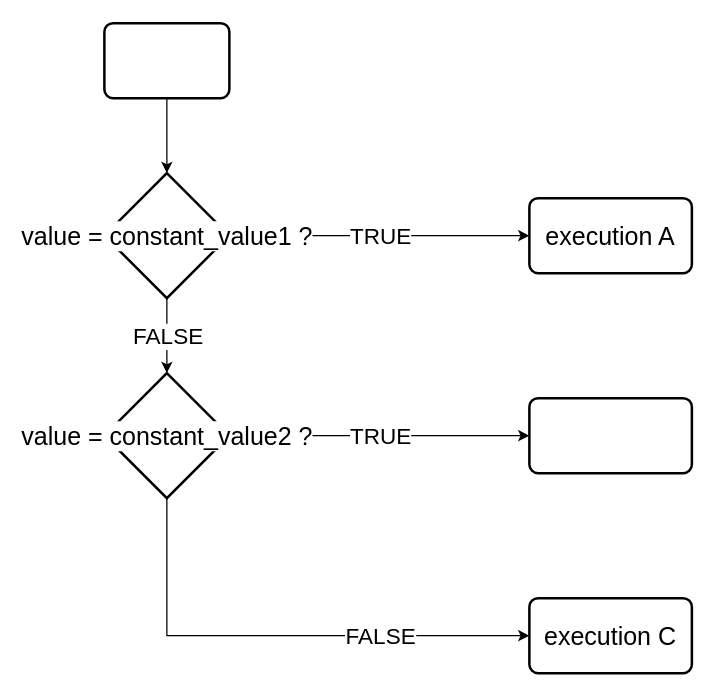
This 715x695 diagram has some shape labels left out. Here are the shapes that lost their labels. From the top down, the box of each, then its label:
(102, 21, 230, 99): value
(528, 396, 692, 474): execution B
